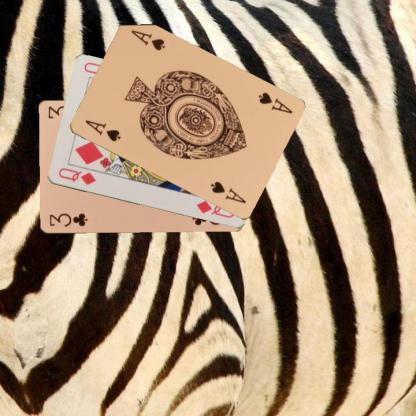3c: (46, 211, 89, 228)
As: (82, 118, 122, 144), (255, 90, 293, 115)
Qd: (56, 165, 97, 187)
